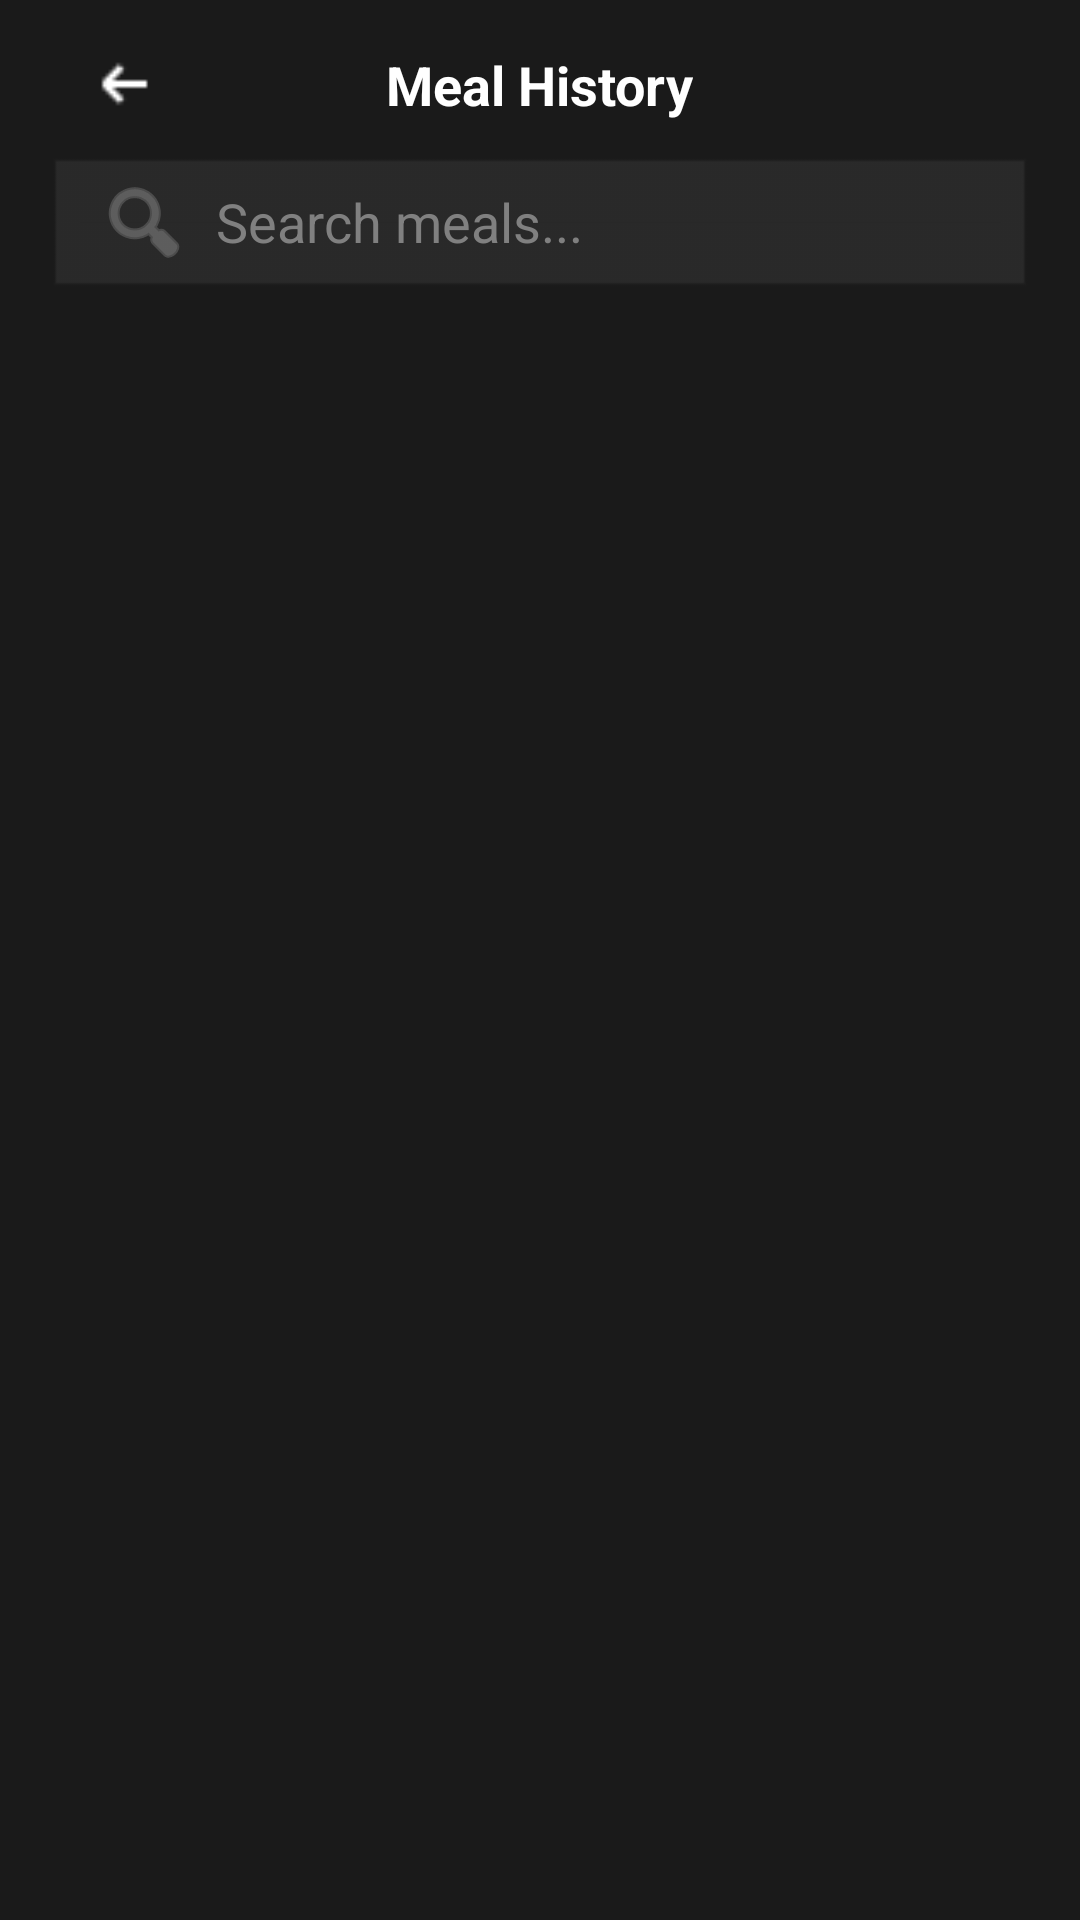

Icon click points for this 1080w x 1920h phone screenshot, format point (x, y):
Back: point (124, 84)
